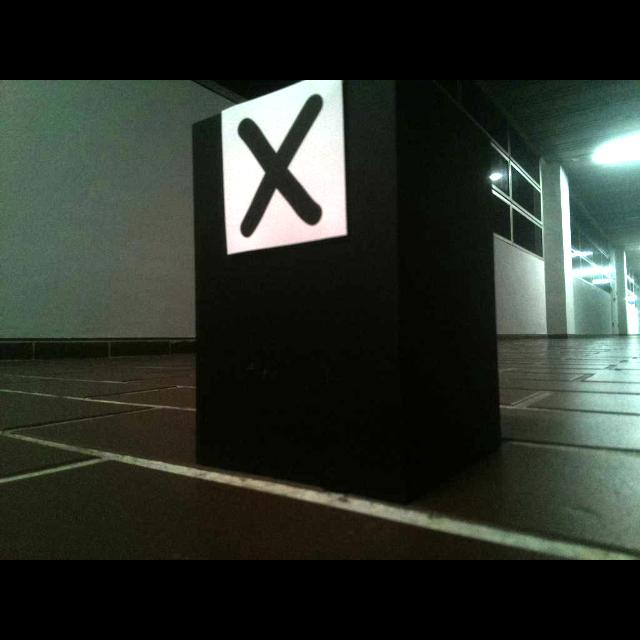X: (237, 92, 325, 239)
